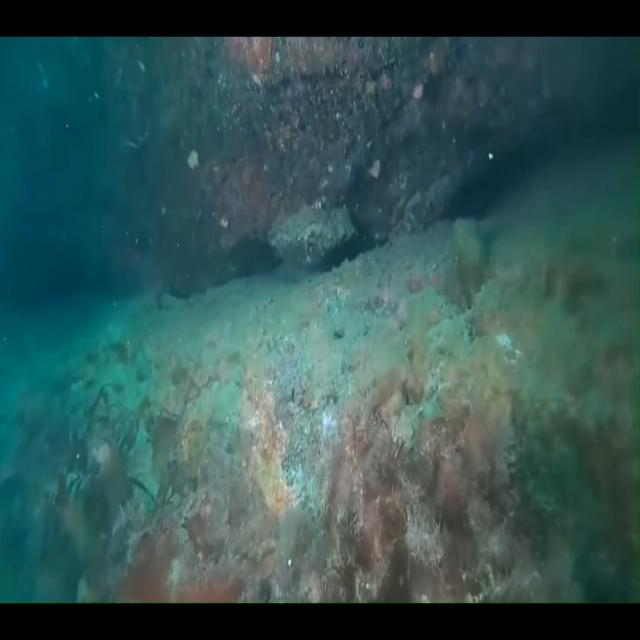Oyster-Closed: (244, 171, 383, 289)
